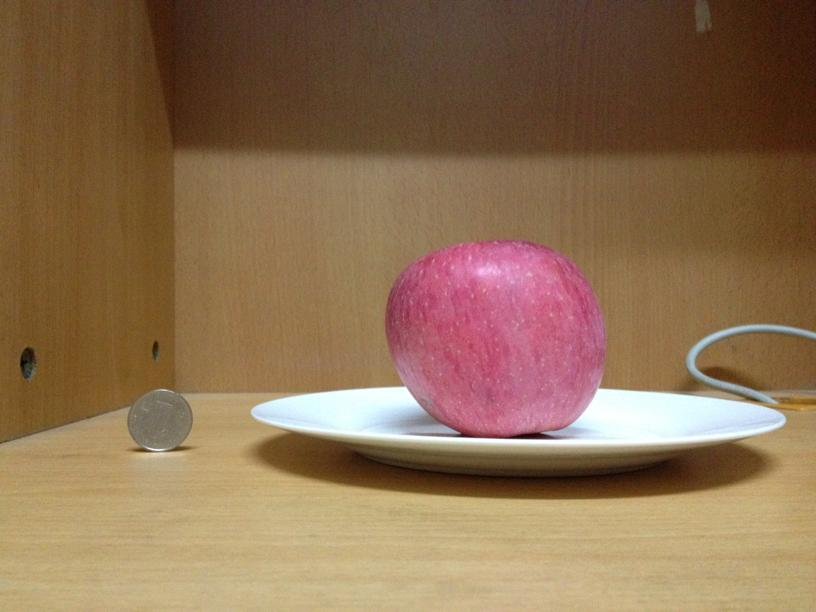apple: (387, 239, 605, 434)
coin: (129, 387, 193, 453)
